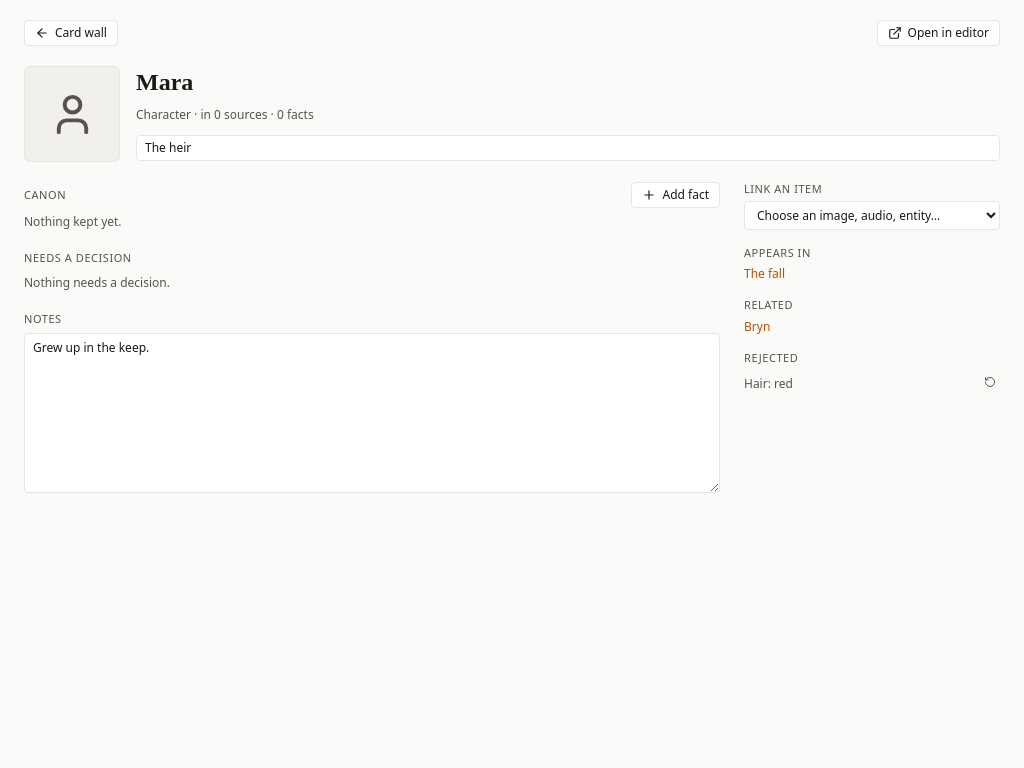
Test: EntityCard: extraction › lists rejections with AI on and lifts one back into review
The width and height of the screenshot is (1024, 768).
Expected: the text "Hair: red" is shown, x1=744 y1=376 x2=793 y2=392
Click the button named "Lift rejection of Hair: red".
click(990, 382)  # box x1=980 y1=372 x2=1000 y2=392
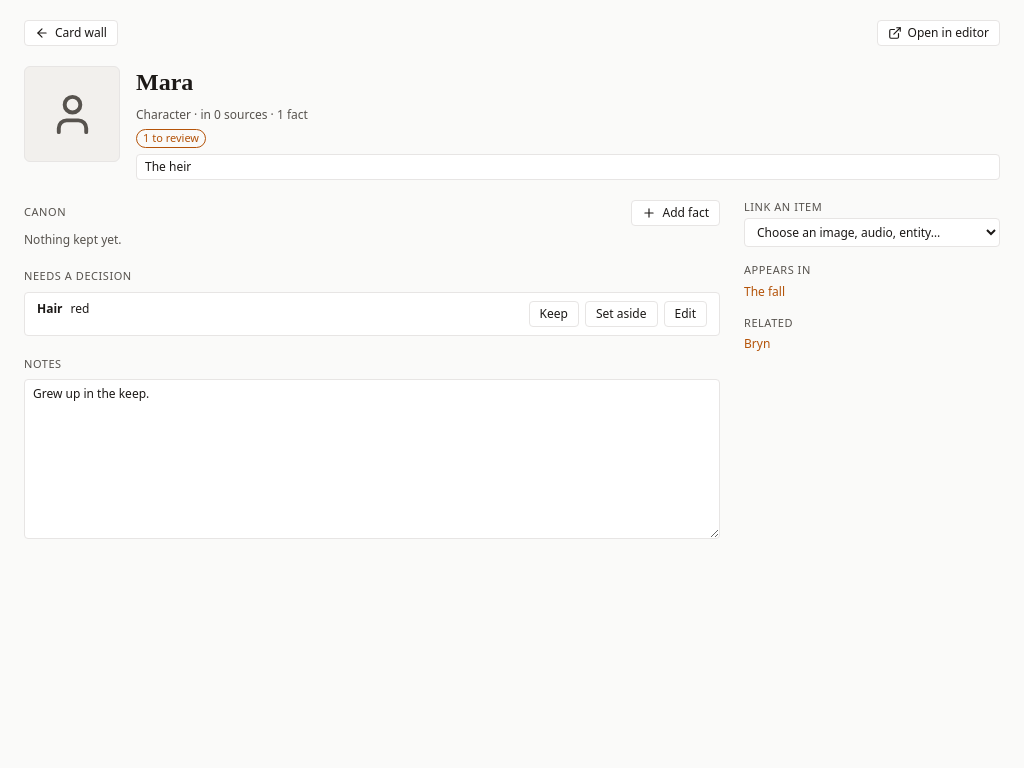
Expected: the text "red" is shown, x1=70 y1=300 x2=89 y2=317
Result: the heading "Rejected" is gone
